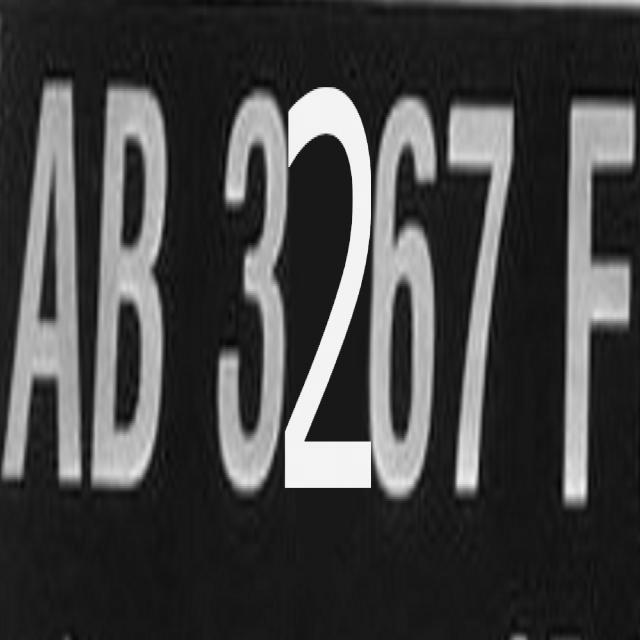2: (286, 83, 370, 494)
3: (218, 78, 286, 491)
6: (373, 85, 443, 503)
7: (450, 93, 500, 511)
A: (6, 67, 88, 500)
B: (90, 75, 173, 492)
F: (560, 80, 640, 532)
